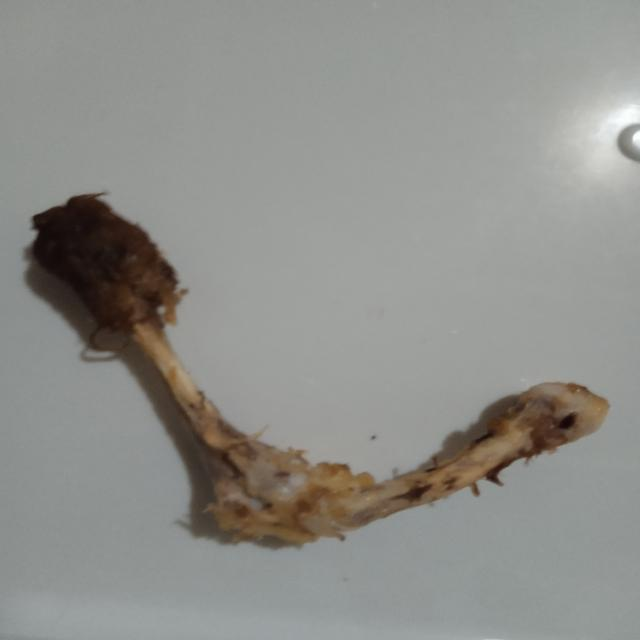bone: (23, 188, 620, 552)
